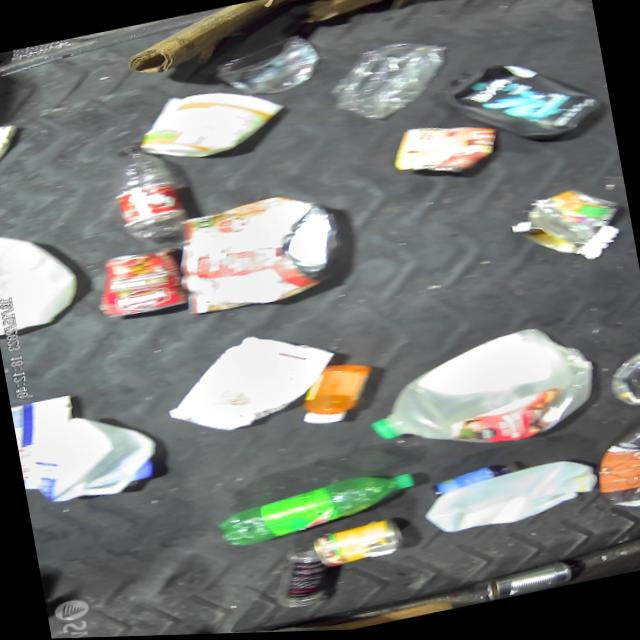can: (506, 182, 630, 277), (388, 113, 502, 188), (93, 244, 189, 321), (309, 517, 406, 572), (482, 559, 574, 604), (604, 348, 640, 414)
milk_jug: (359, 319, 604, 471), (158, 321, 344, 442), (420, 456, 601, 542), (22, 402, 165, 510), (0, 217, 82, 334)
non_white_jug: (442, 46, 606, 161), (587, 404, 640, 516)
plastic_bottle: (107, 136, 191, 245)
